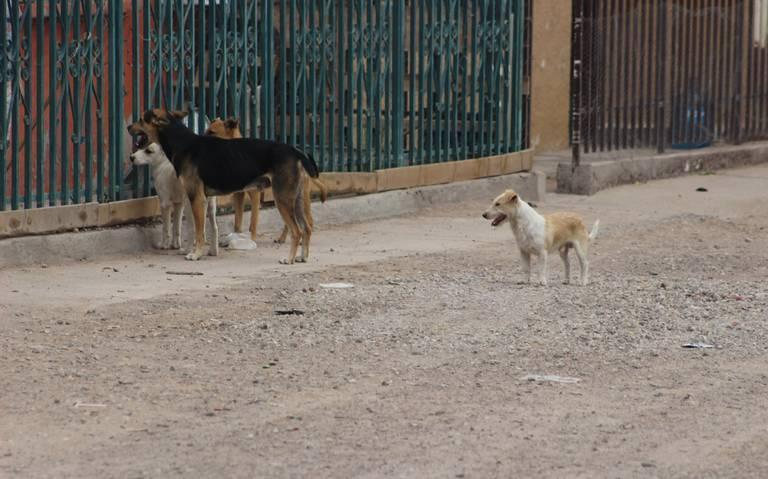normal_dogs: (126, 101, 350, 266), (203, 107, 333, 234), (480, 187, 624, 292), (124, 141, 210, 258)
